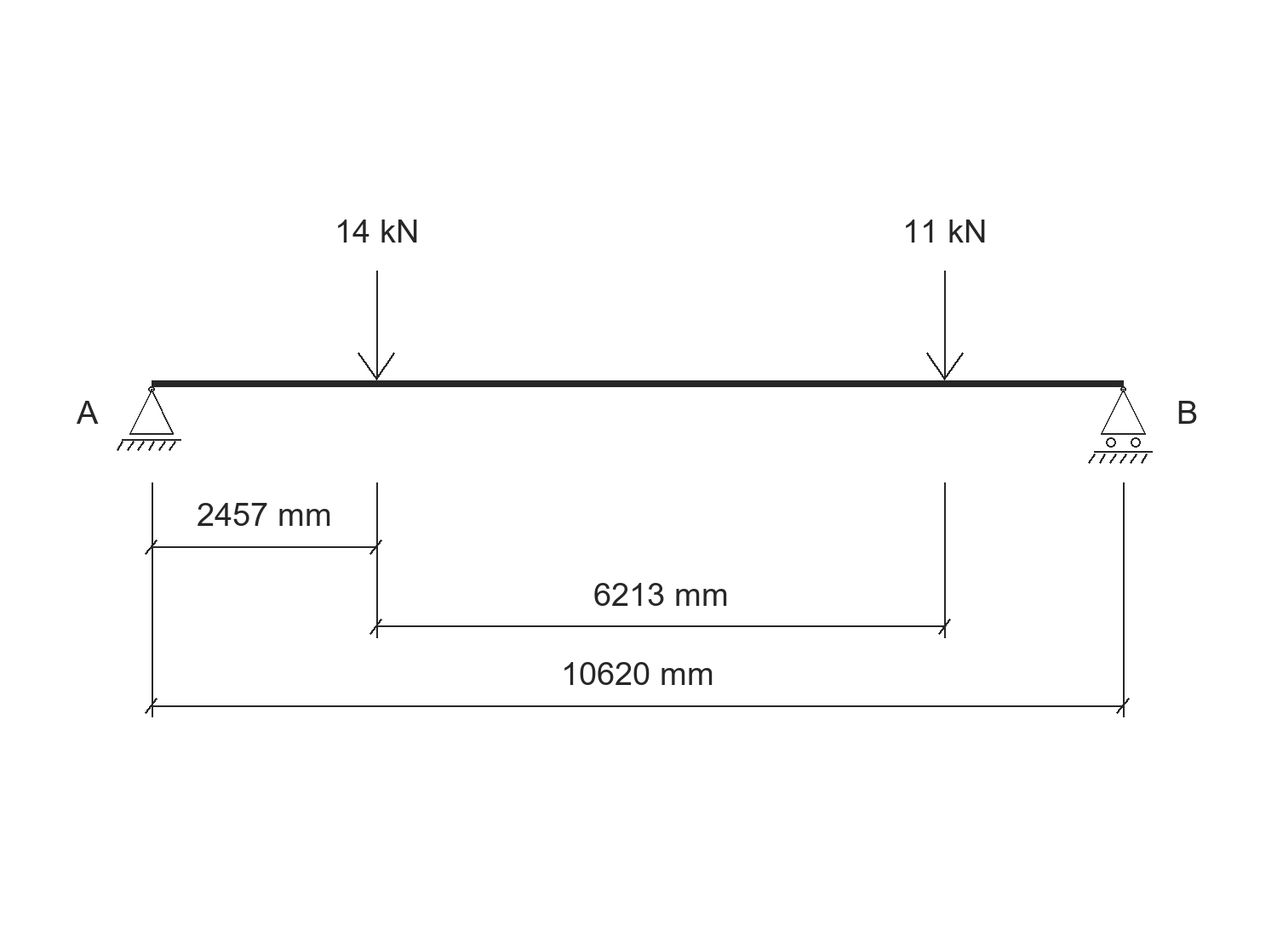pin_support: (117, 386, 181, 451)
point_load: (926, 271, 964, 380), (358, 271, 395, 380)
roller_support: (1088, 386, 1153, 464)
